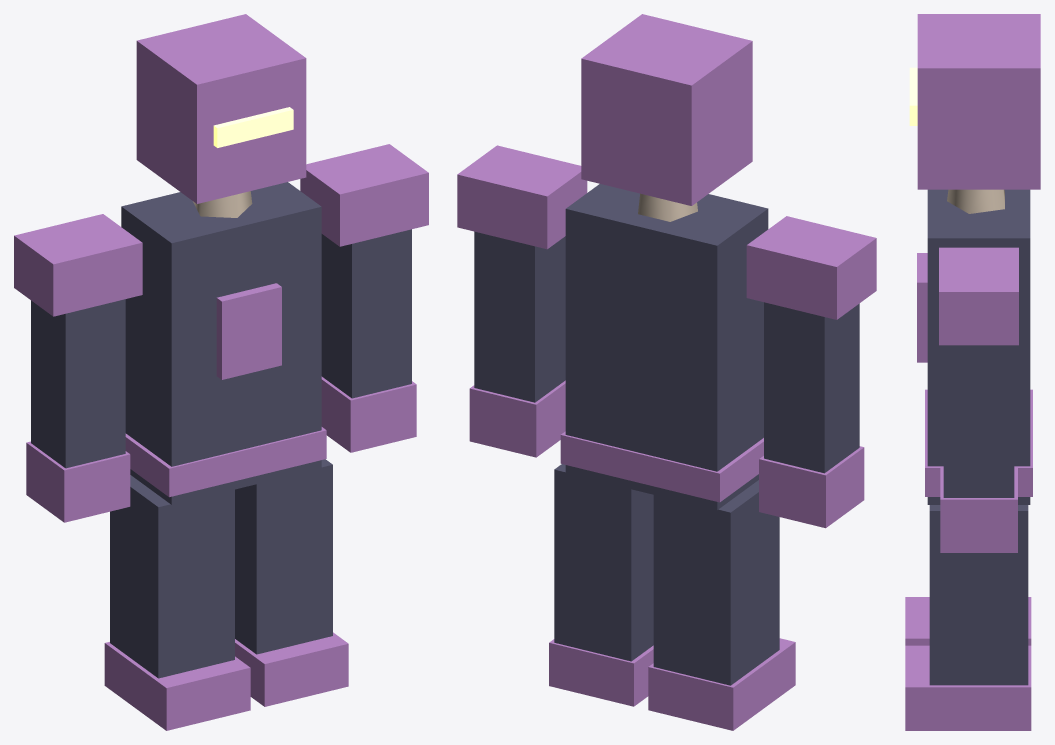
File: villain.glb
3 views of the same model, side by side, from view 1: azimuth 30°, elevation 25°; view 2: azimuth 150°, elevation 25°; view 3: azimuth 270°, elevation 25° (orthographic).
Bounding box in the file's own units: 1.65 × 2.66 × 0.5051.
